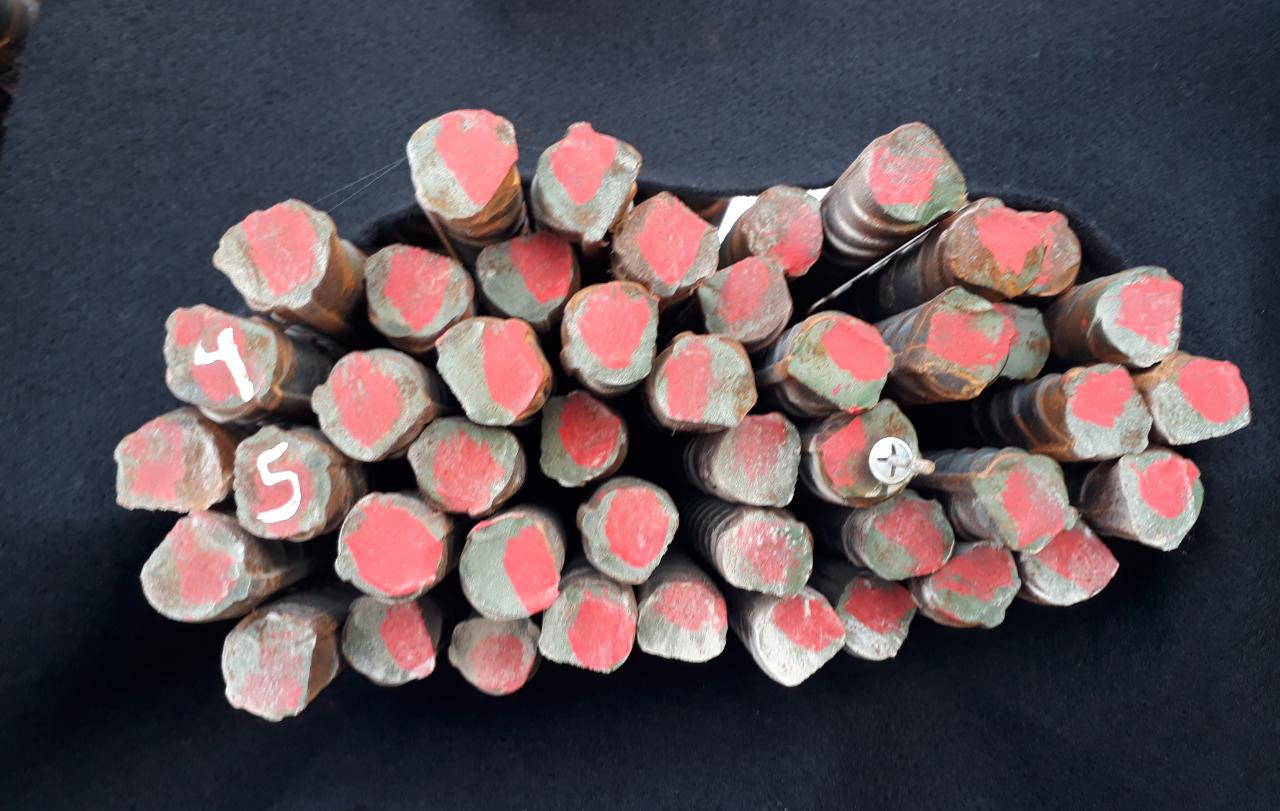dipstick: (209, 195, 336, 316), (312, 345, 432, 465), (161, 303, 282, 421), (530, 120, 643, 246), (141, 510, 256, 630), (403, 107, 522, 219), (434, 313, 549, 427), (219, 609, 329, 728), (333, 494, 448, 606), (230, 425, 336, 545), (115, 412, 228, 520), (612, 190, 722, 296), (456, 513, 562, 623), (407, 413, 520, 516), (361, 240, 475, 340), (868, 118, 970, 228), (819, 396, 924, 502), (561, 279, 663, 388), (651, 329, 758, 431), (786, 312, 893, 413), (975, 452, 1078, 553), (577, 484, 681, 584), (1019, 511, 1123, 611), (535, 580, 639, 678), (923, 285, 1015, 394), (336, 594, 440, 690), (1148, 352, 1252, 448), (943, 198, 1041, 297), (1114, 449, 1206, 554), (472, 232, 579, 322), (1095, 265, 1185, 370), (536, 389, 630, 489), (755, 588, 848, 689), (925, 538, 1022, 632), (708, 412, 802, 508), (1062, 363, 1152, 461), (718, 510, 816, 599), (698, 255, 794, 342), (863, 497, 957, 584), (739, 183, 825, 278), (835, 571, 918, 668), (638, 579, 730, 665), (446, 617, 539, 697), (1008, 209, 1083, 300), (974, 301, 1049, 384)
